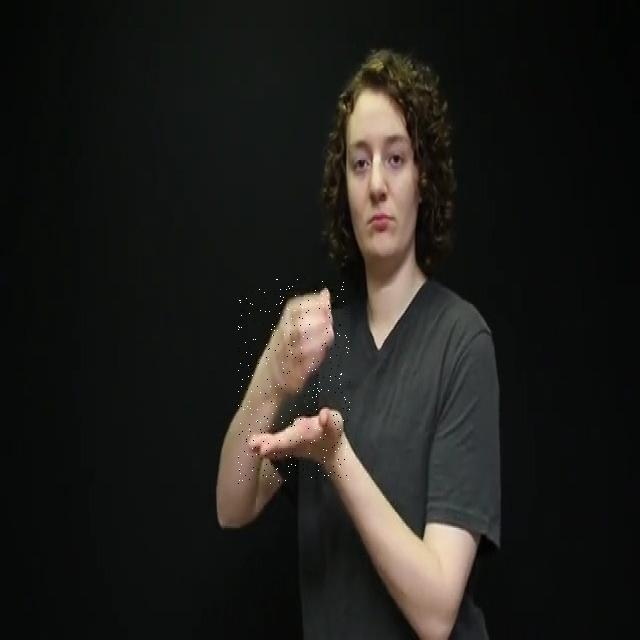cup: (238, 274, 350, 484)
